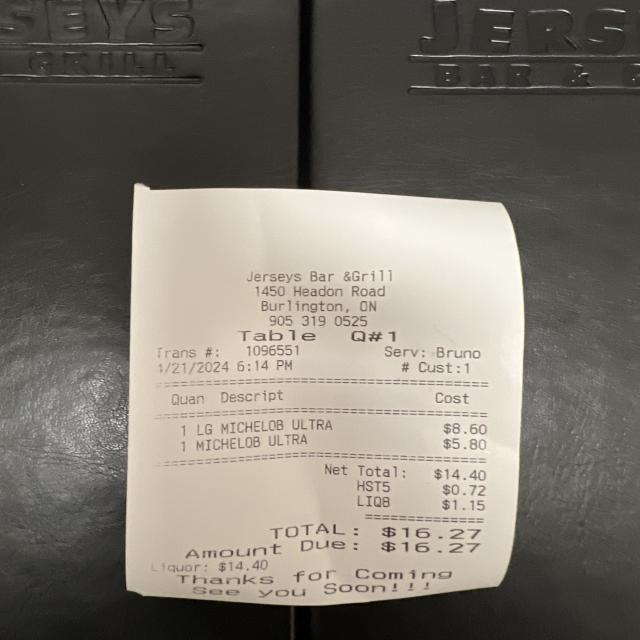item: (190, 415, 494, 438), (190, 432, 492, 452)
store_name: (242, 266, 398, 287)
total_amount: (266, 520, 485, 544)
transaction_date: (151, 359, 236, 378)
